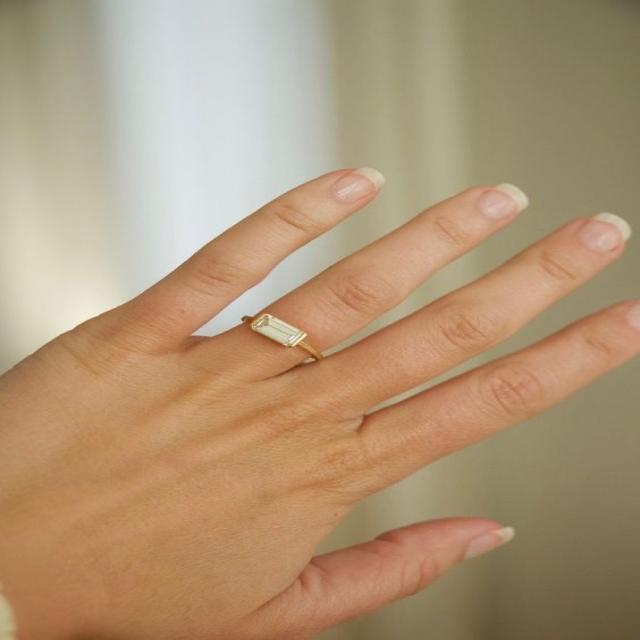Fingernail: (478, 182, 530, 224), (580, 213, 630, 254), (464, 528, 517, 563), (334, 167, 384, 204)
